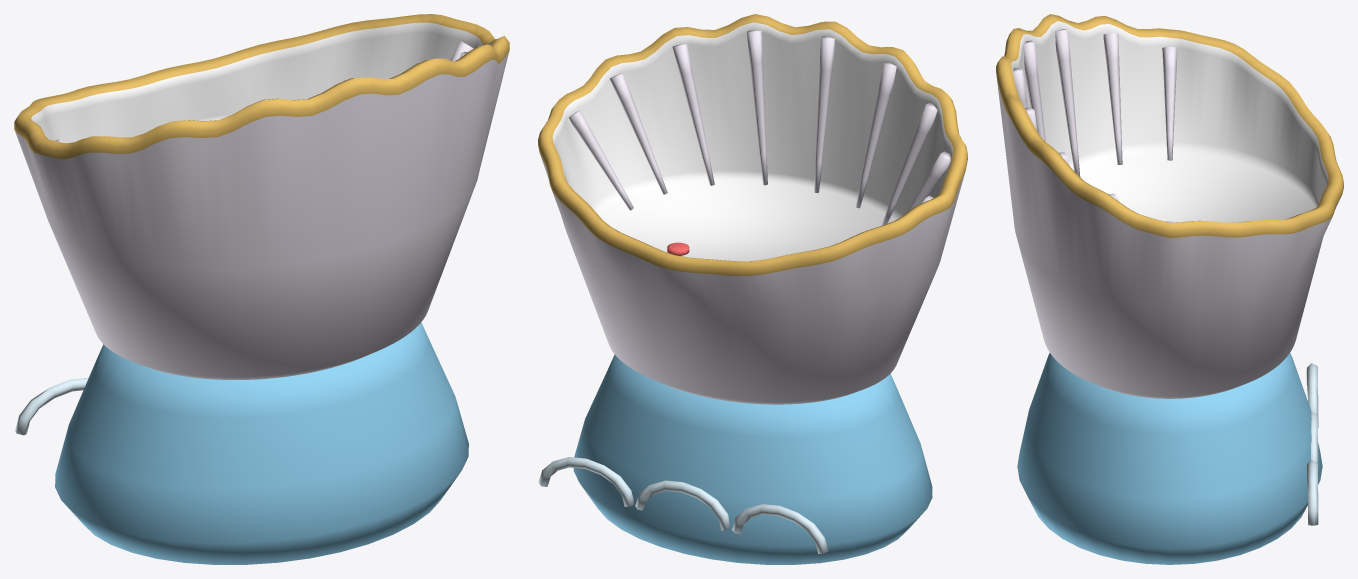
The model's file is tub_shell.glb.
3 views of the same model, side by side, from view 1: azimuth 30°, elevation 25°; view 2: azimuth 150°, elevation 25°; view 3: azimuth 270°, elevation 25° (orthographic). The views are drawn at different scales.
Parts seen in each view (by area): view 1: Tub, Stand; view 2: Tub, Stand; view 3: Tub, Stand.
Part boxes in pixels (box(x1,y1,x2,y2)): Tub: box(14, 14, 509, 379); Stand: box(15, 322, 468, 564); Tub: box(538, 14, 967, 404); Stand: box(538, 354, 932, 564); Tub: box(996, 14, 1343, 398); Stand: box(1017, 353, 1322, 564).
Size of the model in its own units: 1.47 by 1.5 by 1.09.
Materials: 7 (7 with a texture image).
